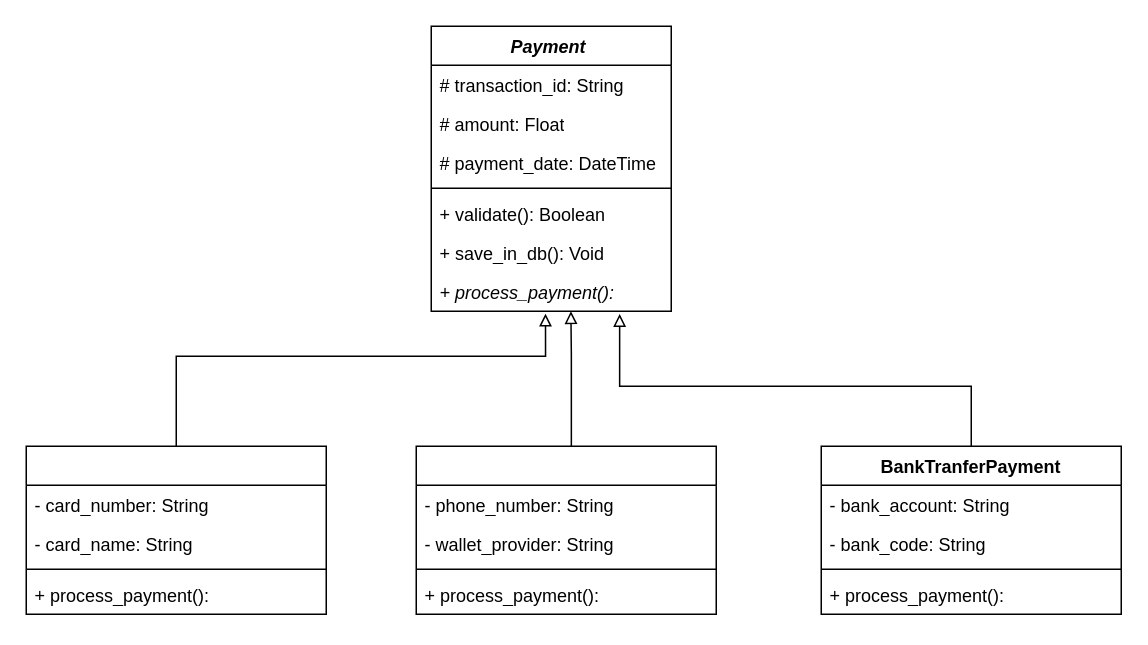
Some shapes in this 1148 by 645 pixel diagram are drawn without their labels. The box of each missing label's shape, as (x1, y1, x2, y2) in pixels:
CreditCardPayment: (25, 445, 326, 614)
EWalletPayment: (415, 445, 716, 614)
